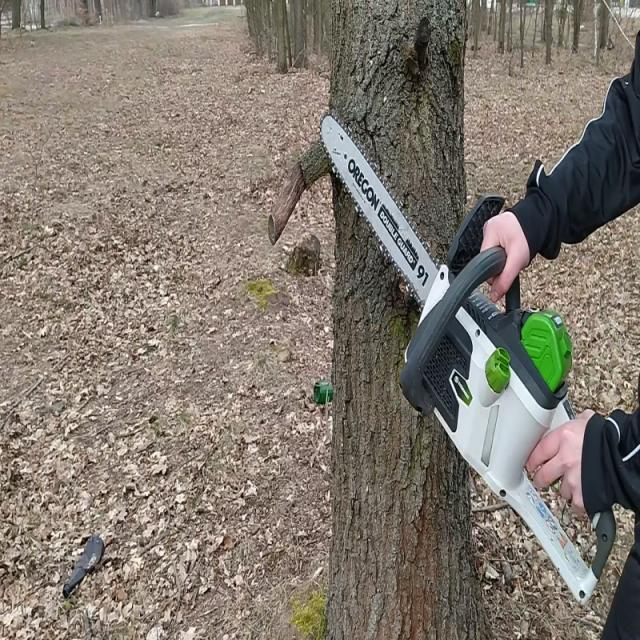Chainsaw: (312, 101, 624, 614)
